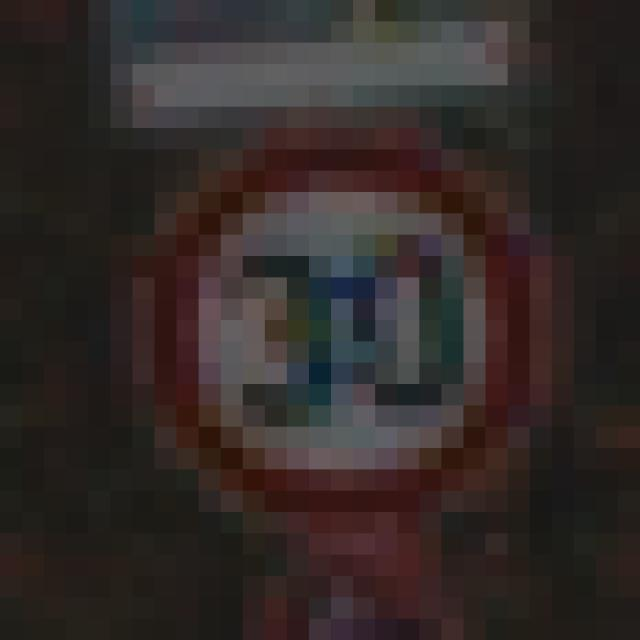Speed Limit -30-: (100, 96, 497, 501)
